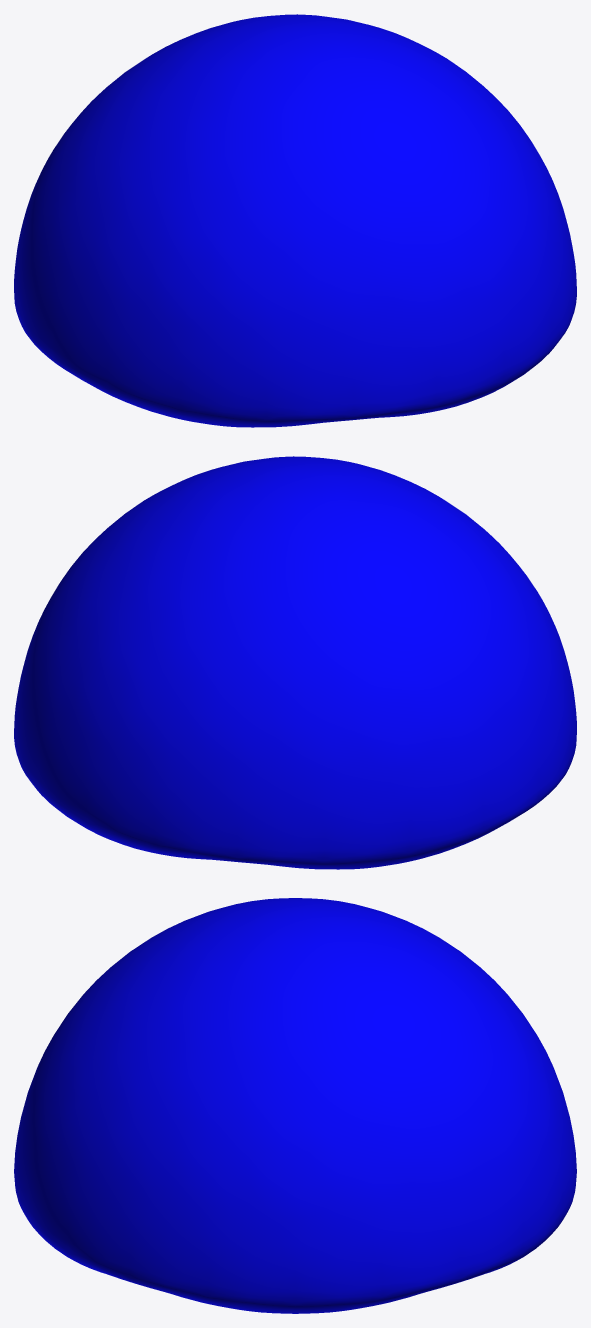
The model's file is slime_blue.glb.
3 views of the same model, one above another, from view 1: azimuth 30°, elevation 25°; view 2: azimuth 150°, elevation 25°; view 3: azimuth 270°, elevation 25° (orthographic).
Visible parts, largest first — view 1: Icosphere; view 2: Icosphere; view 3: Icosphere.
Part boxes in pixels (box(x1,y1,x2,y2)): Icosphere: box(14, 14, 576, 427); Icosphere: box(14, 456, 576, 869); Icosphere: box(14, 898, 576, 1313).
Bounding box in the file's own units: 1.96 × 1.18 × 1.96.
